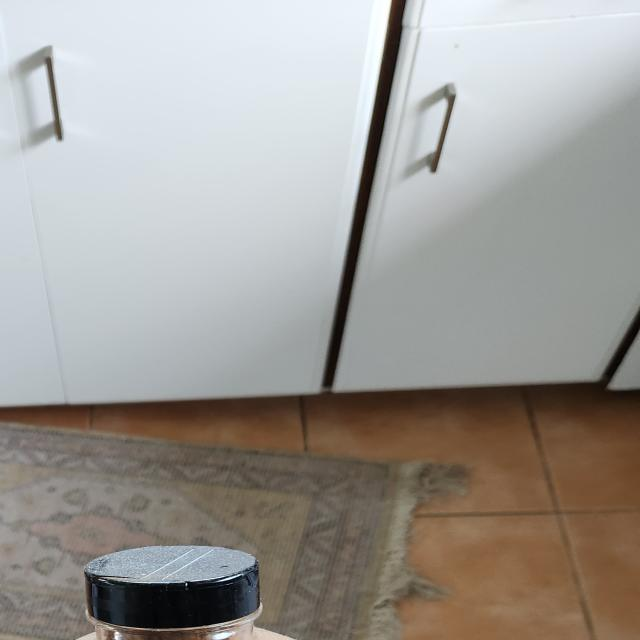cinnamon: (36, 544, 325, 640)
